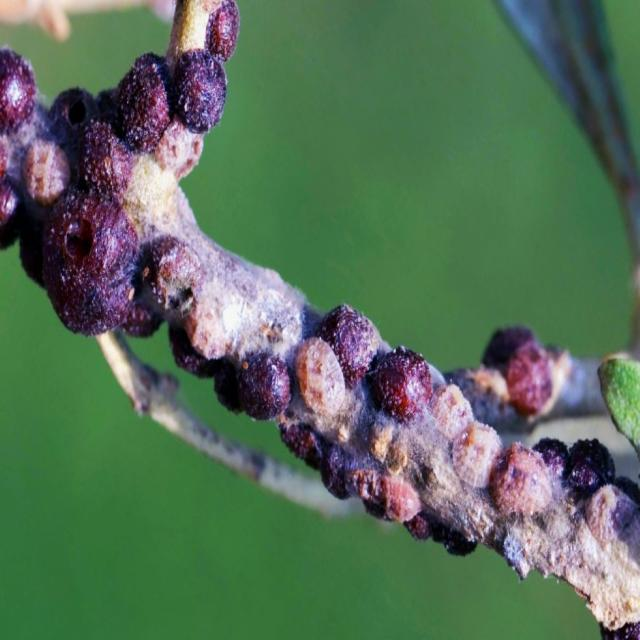Black Scale: (237, 304, 444, 539), (0, 47, 156, 335), (444, 420, 639, 639), (113, 0, 239, 169), (482, 326, 569, 418), (168, 323, 243, 413), (142, 235, 205, 318)
